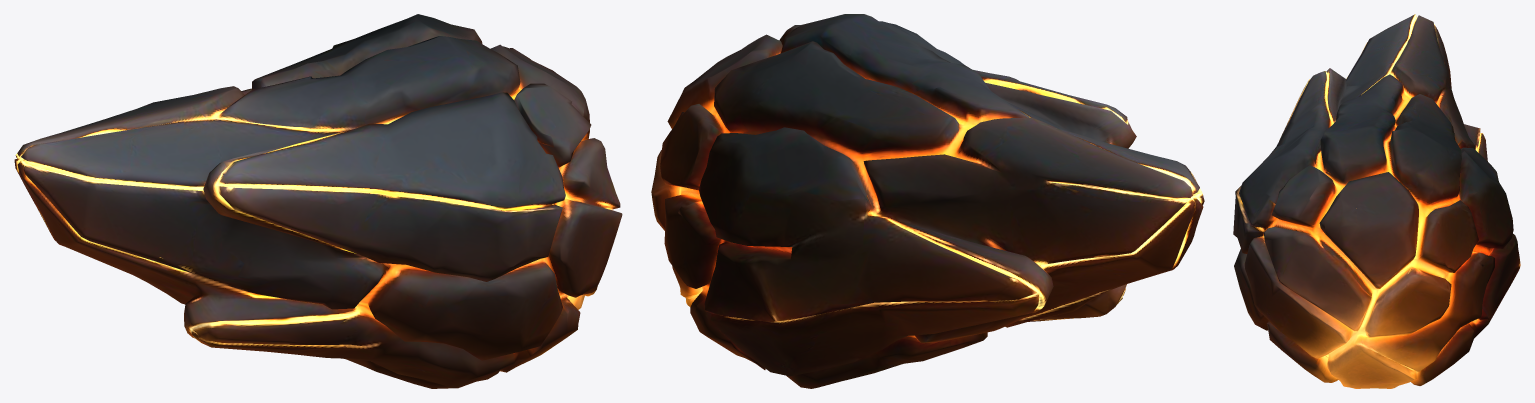
File: debuff_meteor.glb
The picture shows the model from 3 angles, left to right: view 1: azimuth 30°, elevation 25°; view 2: azimuth 150°, elevation 25°; view 3: azimuth 270°, elevation 25°; orthographic projection. The views are drawn at different scales.
Visible parts, largest first — view 1: tripo_node_860b93f7-73f0-4d55-b5db-627d83a9c006; view 2: tripo_node_860b93f7-73f0-4d55-b5db-627d83a9c006; view 3: tripo_node_860b93f7-73f0-4d55-b5db-627d83a9c006.
Part boxes in pixels (<box>): tripo_node_860b93f7-73f0-4d55-b5db-627d83a9c006: <box>14,14,622,388</box>; tripo_node_860b93f7-73f0-4d55-b5db-627d83a9c006: <box>651,14,1204,388</box>; tripo_node_860b93f7-73f0-4d55-b5db-627d83a9c006: <box>1233,14,1520,388</box>.
Size of the model in its own units: 0.9132 by 0.5353 by 0.5481.
1 material, 1 textured.
